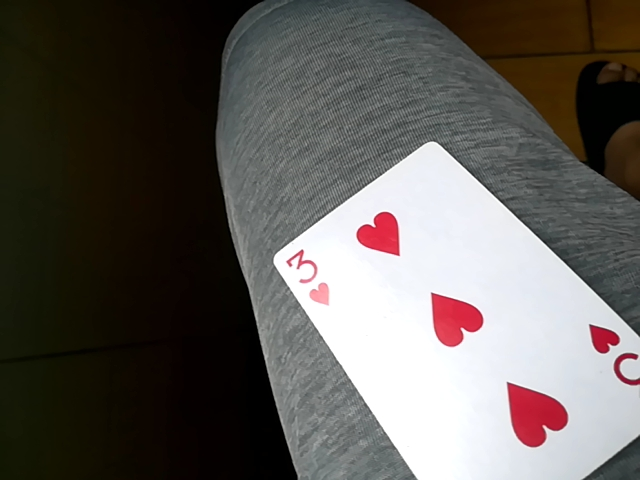hx 3: (272, 143, 635, 480)
